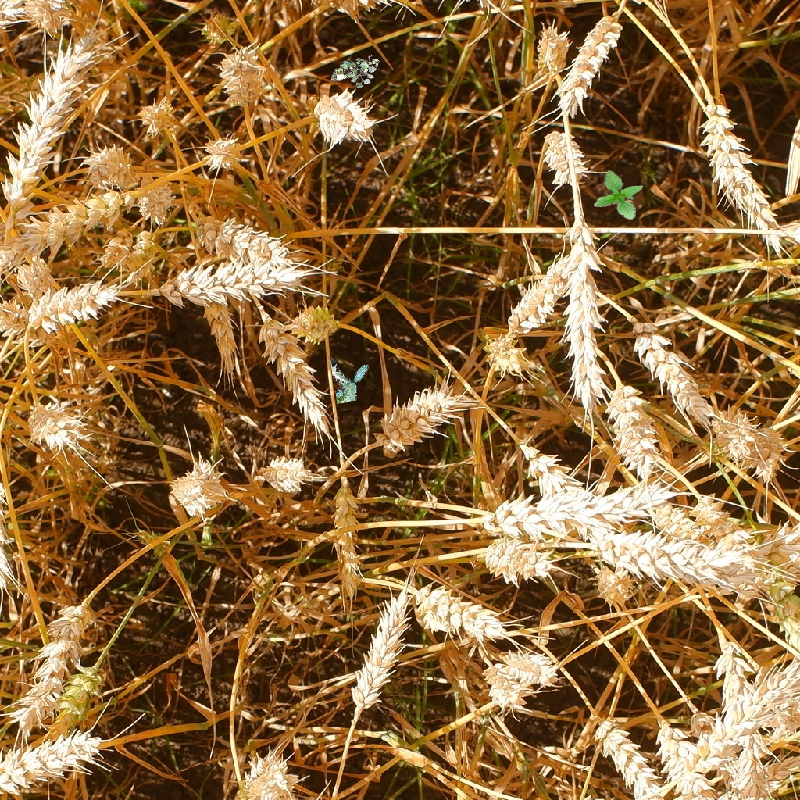spikelet: (1, 38, 92, 199), (698, 645, 798, 767), (697, 98, 781, 242), (479, 477, 674, 539), (587, 527, 758, 590), (11, 600, 88, 725), (255, 316, 330, 431), (561, 218, 606, 403), (348, 585, 413, 708), (630, 322, 711, 419), (169, 253, 304, 308), (553, 12, 623, 116), (1, 729, 100, 798), (591, 716, 670, 799), (411, 581, 507, 644), (375, 382, 457, 452), (604, 381, 662, 473), (504, 252, 569, 334), (39, 188, 128, 244), (26, 277, 116, 332), (654, 717, 712, 800), (205, 213, 294, 263), (311, 87, 374, 147), (689, 491, 755, 547), (480, 534, 554, 583), (327, 481, 364, 578), (168, 455, 225, 517), (25, 398, 88, 453), (217, 44, 271, 107), (539, 125, 590, 188), (493, 644, 560, 688), (99, 226, 160, 273), (237, 751, 294, 800), (479, 329, 534, 379), (56, 663, 105, 717), (81, 139, 137, 185), (746, 422, 789, 481), (710, 408, 755, 463), (289, 299, 341, 344), (136, 94, 183, 143), (532, 21, 569, 81), (199, 130, 247, 174), (591, 560, 635, 607), (10, 249, 54, 296), (261, 452, 309, 495), (482, 666, 526, 711), (135, 180, 177, 225), (329, 51, 381, 85), (20, 1, 73, 33), (197, 9, 239, 44), (777, 610, 800, 663)
weed: (329, 44, 382, 95), (329, 350, 375, 404), (594, 170, 643, 220)
